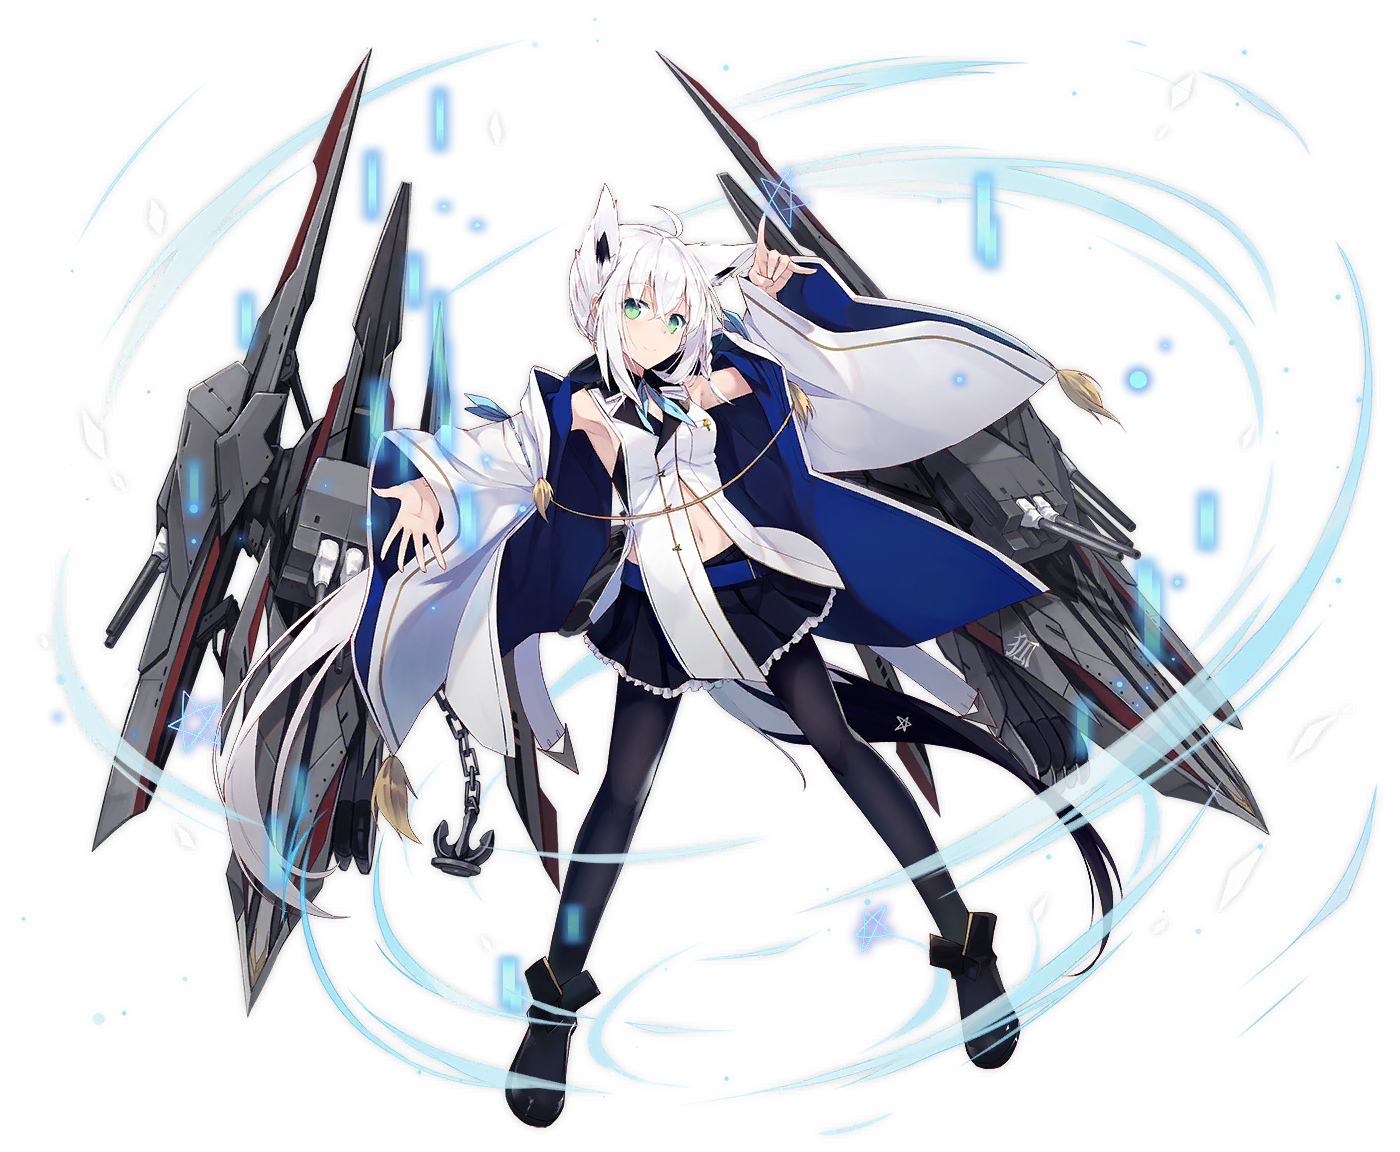person: (395, 221, 970, 921)
